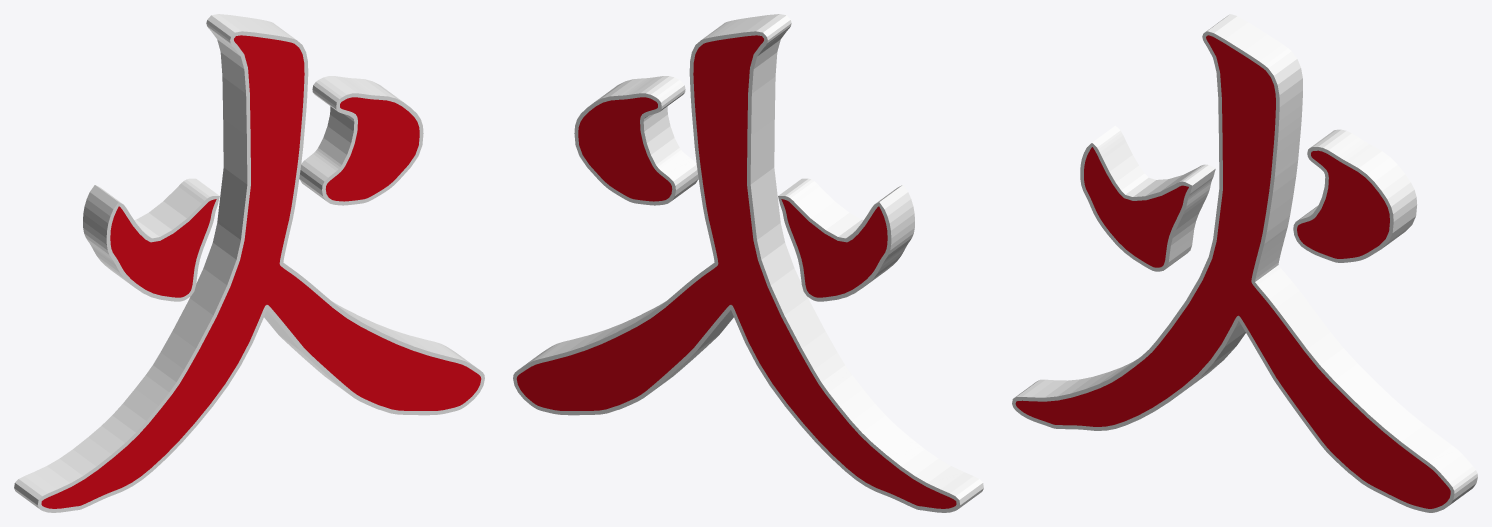
3 views of the same model, side by side, from view 1: azimuth 30°, elevation 25°; view 2: azimuth 150°, elevation 25°; view 3: azimuth 330°, elevation 25° (orthographic).
Parts seen in each view (by area): view 1: TraceGenius hi.001, TraceGenius hi.002; view 2: TraceGenius hi.001, TraceGenius hi.002; view 3: TraceGenius hi.001, TraceGenius hi.002.
Boxes of the visible parts, left/top/right/bottom form: TraceGenius hi.001: left=41, top=35, right=481, bottom=508; TraceGenius hi.002: left=14, top=14, right=484, bottom=512; TraceGenius hi.001: left=516, top=35, right=956, bottom=508; TraceGenius hi.002: left=513, top=14, right=983, bottom=512; TraceGenius hi.001: left=1015, top=35, right=1450, bottom=508; TraceGenius hi.002: left=1012, top=14, right=1477, bottom=512.
Bounding box in the file's own units: 3.59 × 3.37 × 0.33.
